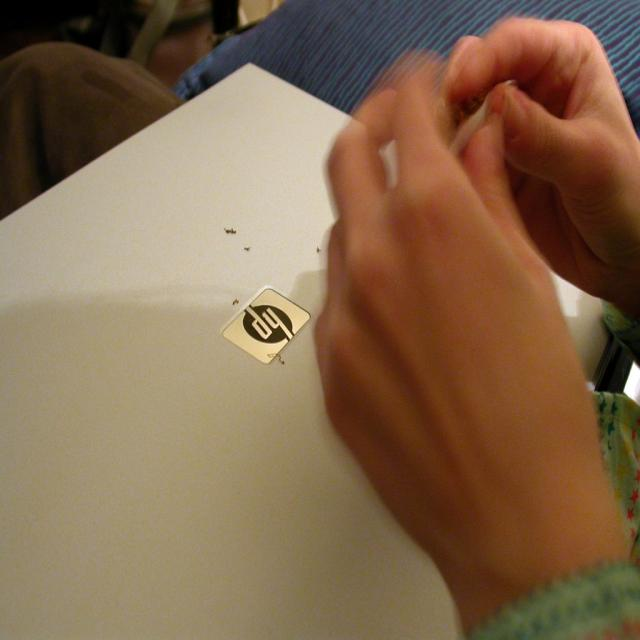HP: (220, 284, 311, 366)
